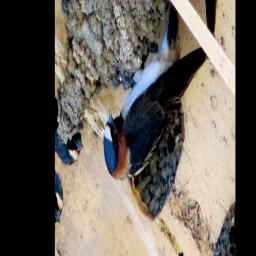Swallow: (96, 0, 211, 244)
